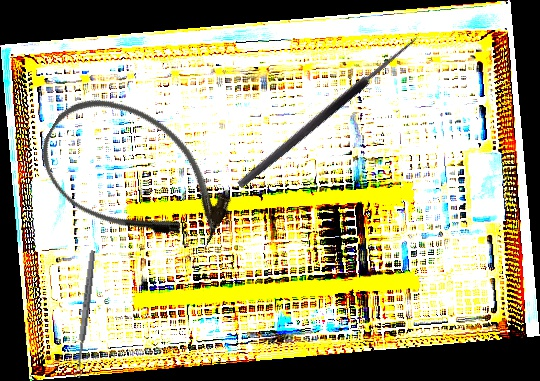Cannula: (22, 75, 250, 276)
Hook Surgical: (229, 24, 421, 190)
Surgical Spoon: (73, 249, 97, 379)
